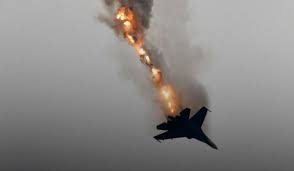fighter: (149, 104, 222, 151)
